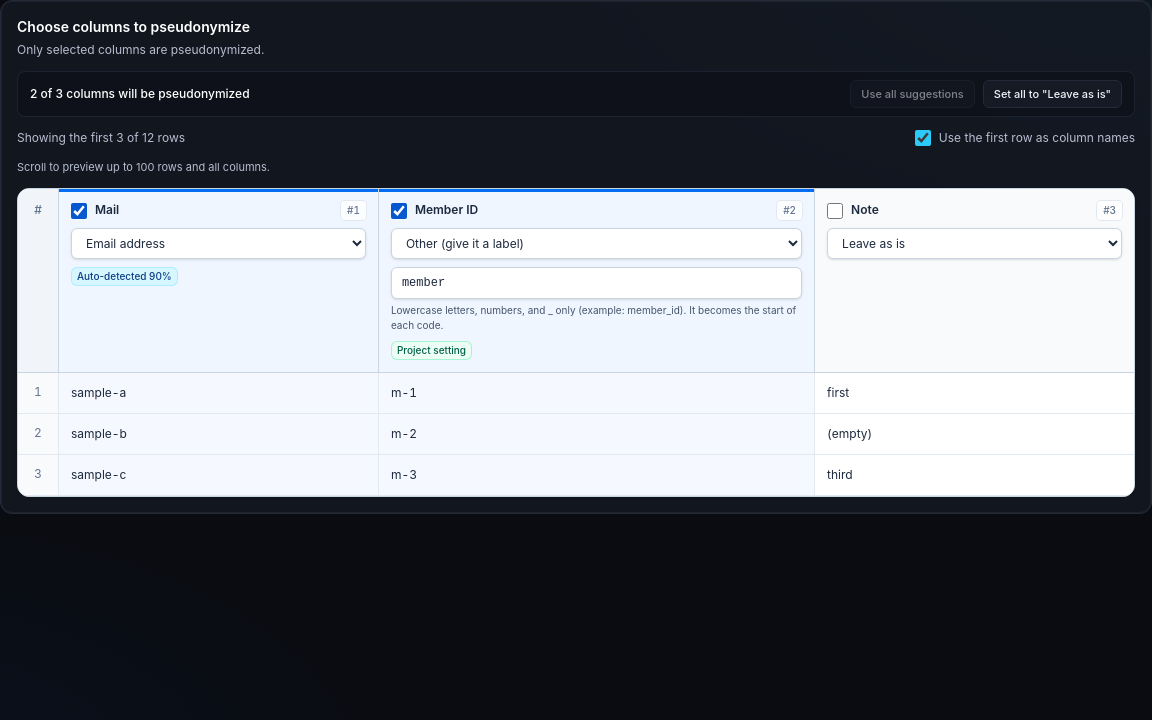
it: PseudonymizeColumnPanel › validates custom labels and lets the toolbar reset or restore choices
Select "Other (give it a label)" in the dropdown named "How to treat Note" at coordinates (975, 243), box 827,228 -> 1122,258
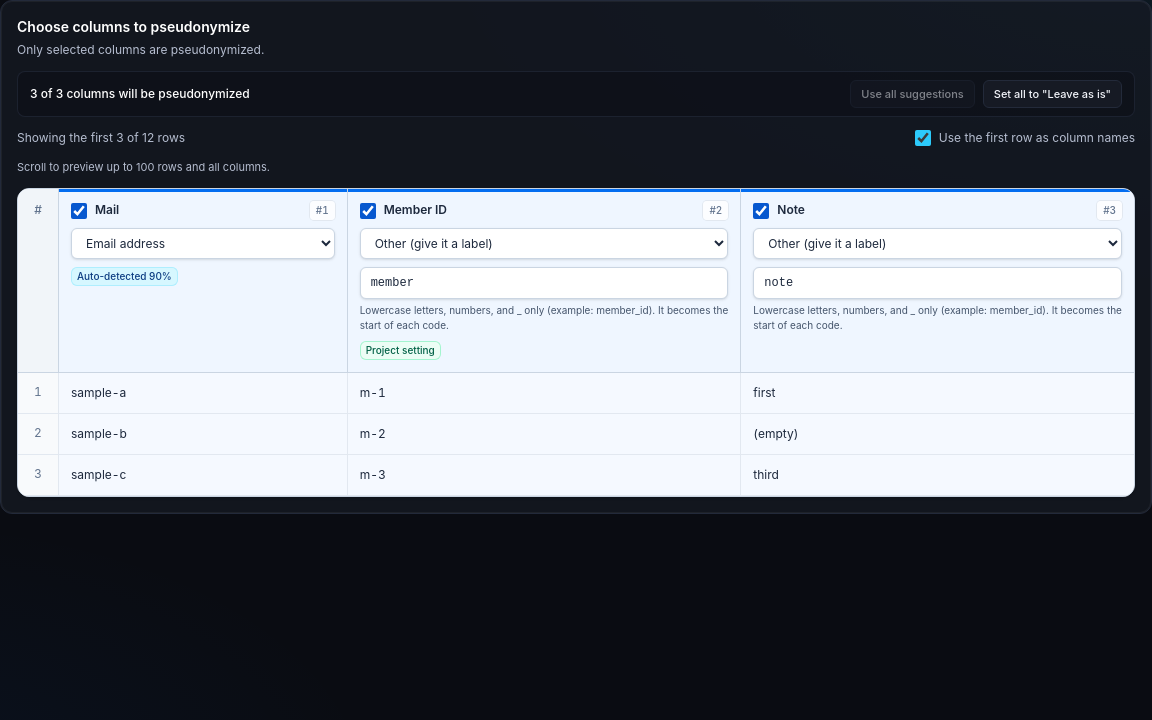
Check: the number of fields named "Label" is 2
Check: the field named "Label" below "Note" holds "note"
Replace the text in the field named "Label" below "Note" with "Bad Label" at coordinates (938, 282), box 753,266 -> 1122,298
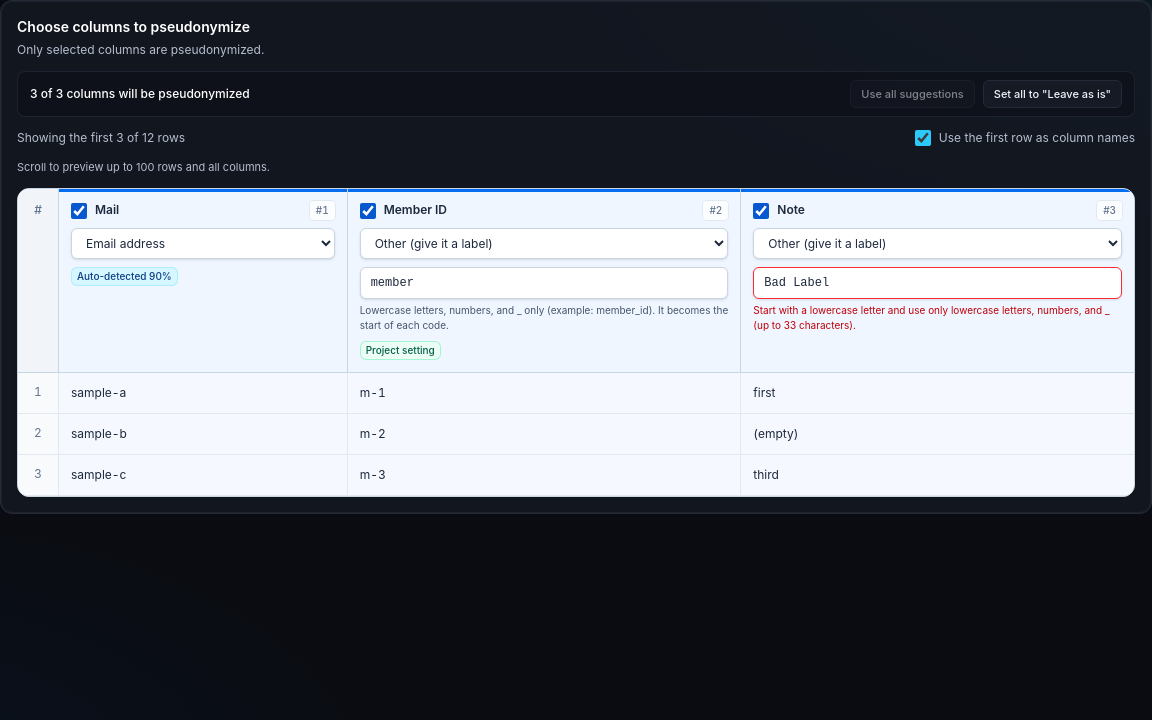
Check: the text "Start with a lowercase letter and use only lowercase letters" is shown, box 753,304 -> 1110,330
Replace the text in the field named "Label" below "Note" with "email" at coordinates (938, 282), box 753,266 -> 1122,298
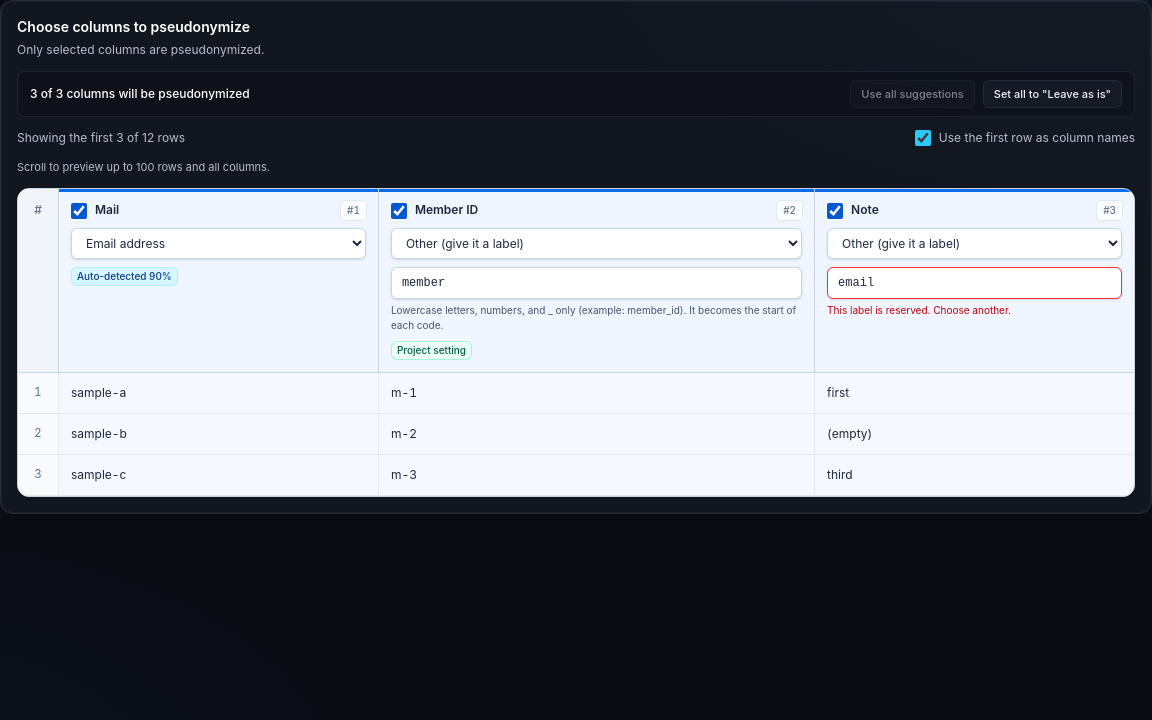
Check: the text "This label is reserved. Choose another." is shown, box 827,304 -> 1011,316
Click the button "Set all to \"Leave as is\"" at coordinates (1052, 94), box 983,80 -> 1122,108
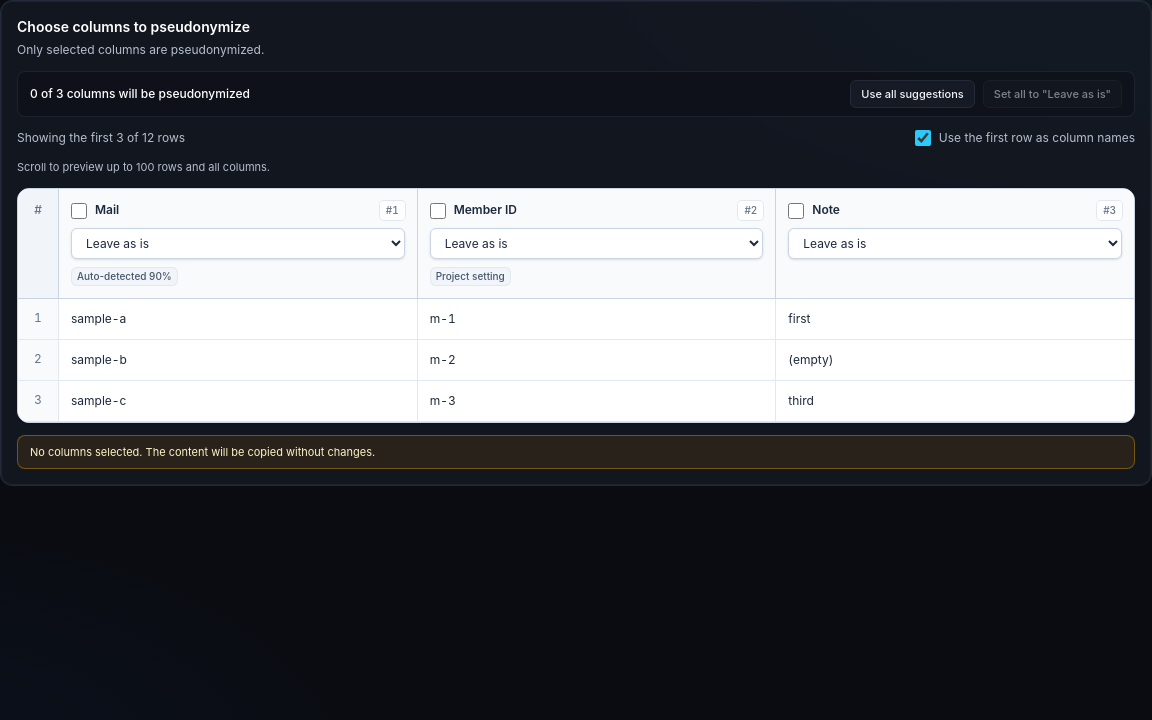
Check: the text "0 of 3 columns will be pseudonymized" is shown, box 30,85 -> 250,103
Check: the text "No columns selected" is shown, box 30,444 -> 375,458
Click the button "Use all suggestions" at coordinates (913, 94), box 850,80 -> 975,108
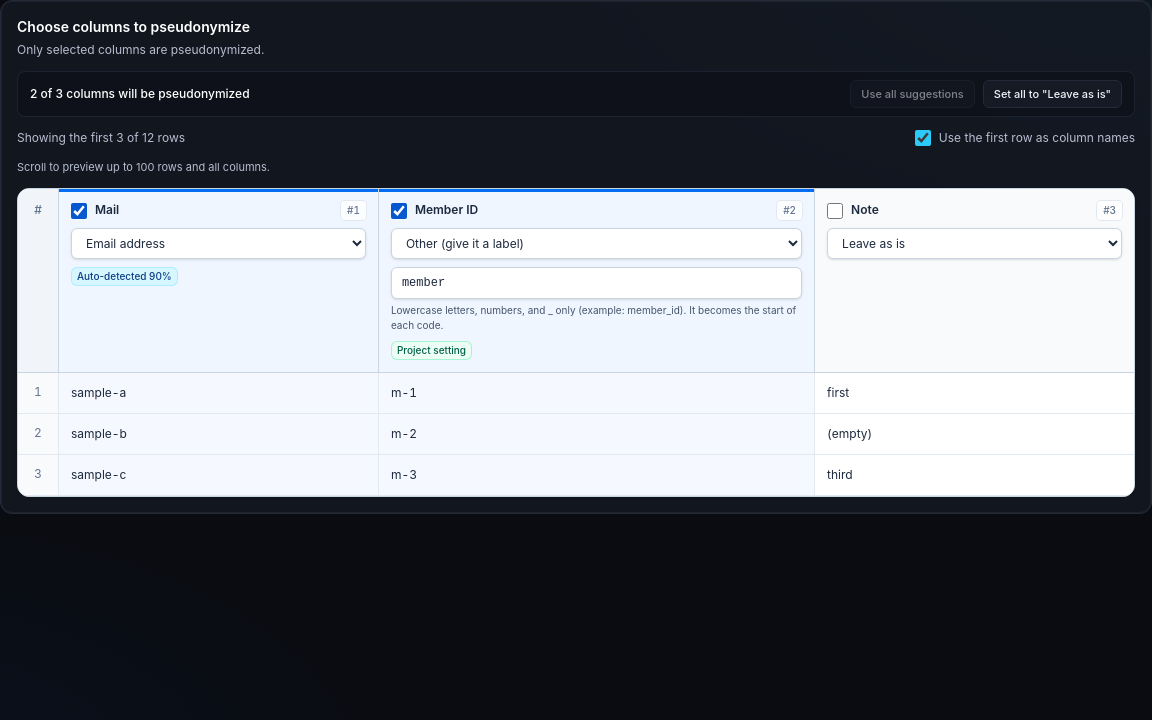
Check: the text "2 of 3 columns will be pseudonymized" is shown, box 30,85 -> 250,103
Check: the button "Use all suggestions" is disabled, box 850,80 -> 975,108
